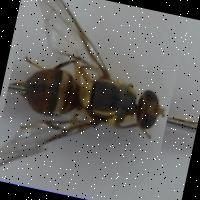Oriental-fruit-fly: (0, 0, 187, 200)
